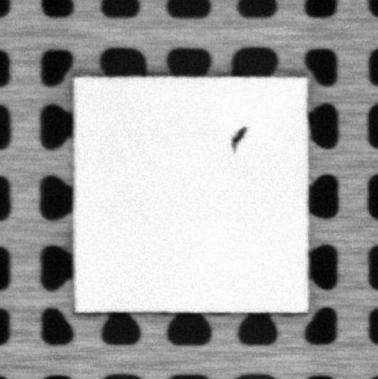DIE_INK: (228, 126, 248, 152)
